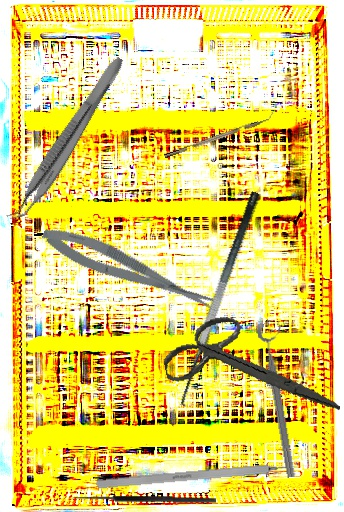Chopper: (162, 110, 276, 159)
Fixation Ring: (256, 320, 308, 479)
Hook Surgical: (95, 460, 312, 490), (71, 494, 217, 511)
Iris Scissors: (157, 297, 341, 443)
Micro Scissor: (37, 217, 221, 323)
Spatula Surgical: (170, 190, 279, 412)
Tissue Forceps: (4, 49, 128, 229)
